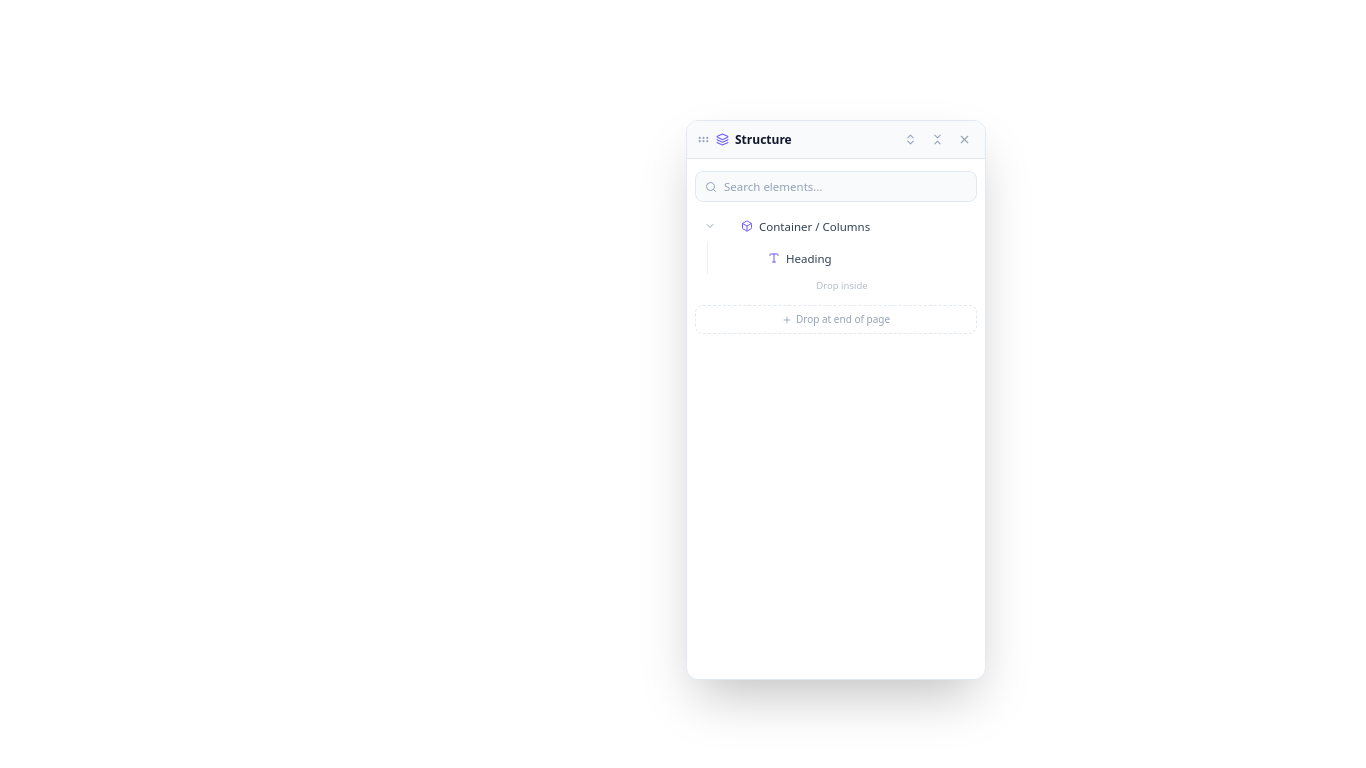
Test: Structure panel › collapse all hides nested widgets, expand all shows them
The width and height of the screenshot is (1366, 768).
Step 1. Click the button named "Collapse all" → (938, 140), box x1=927 y1=129 x2=948 y2=150
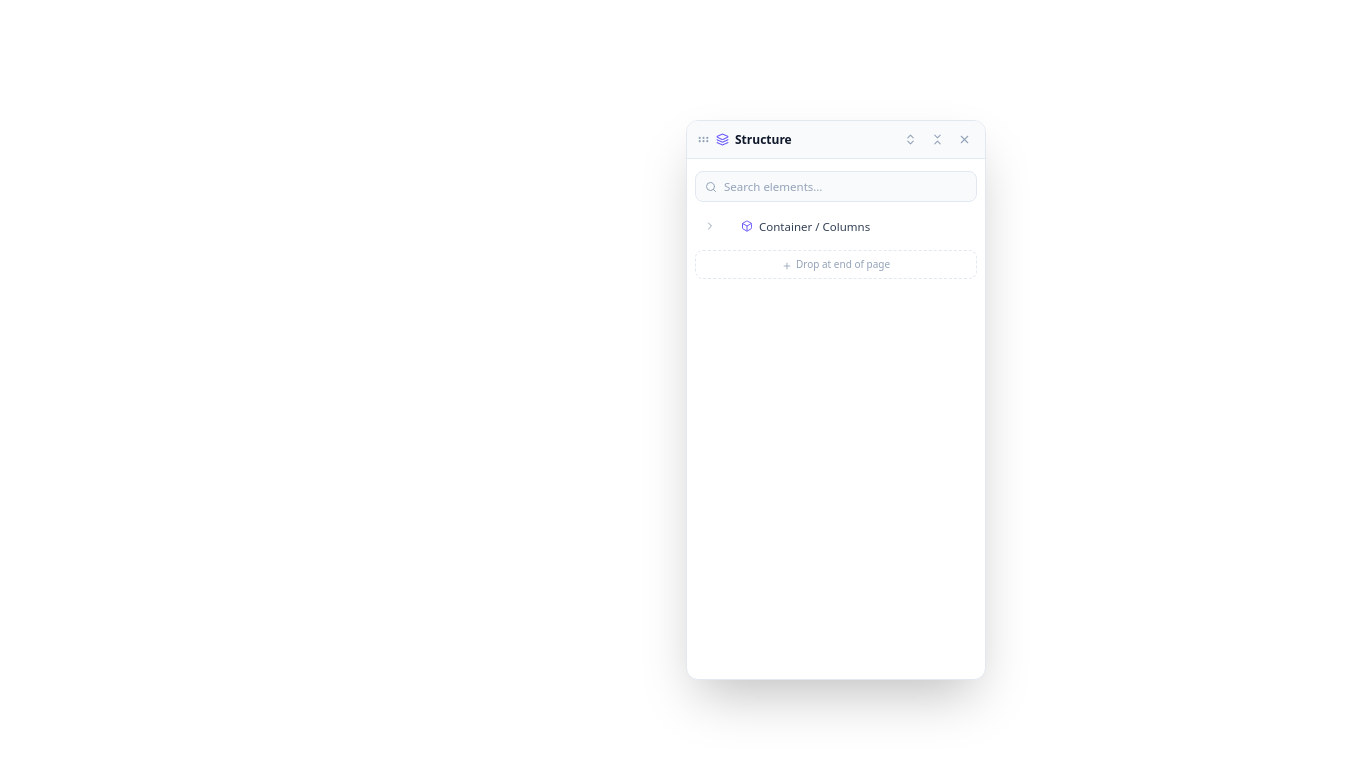
expect the text "Heading" is gone: met
Step 2. Click the button named "Expand all" → (910, 140), box x1=900 y1=129 x2=921 y2=150
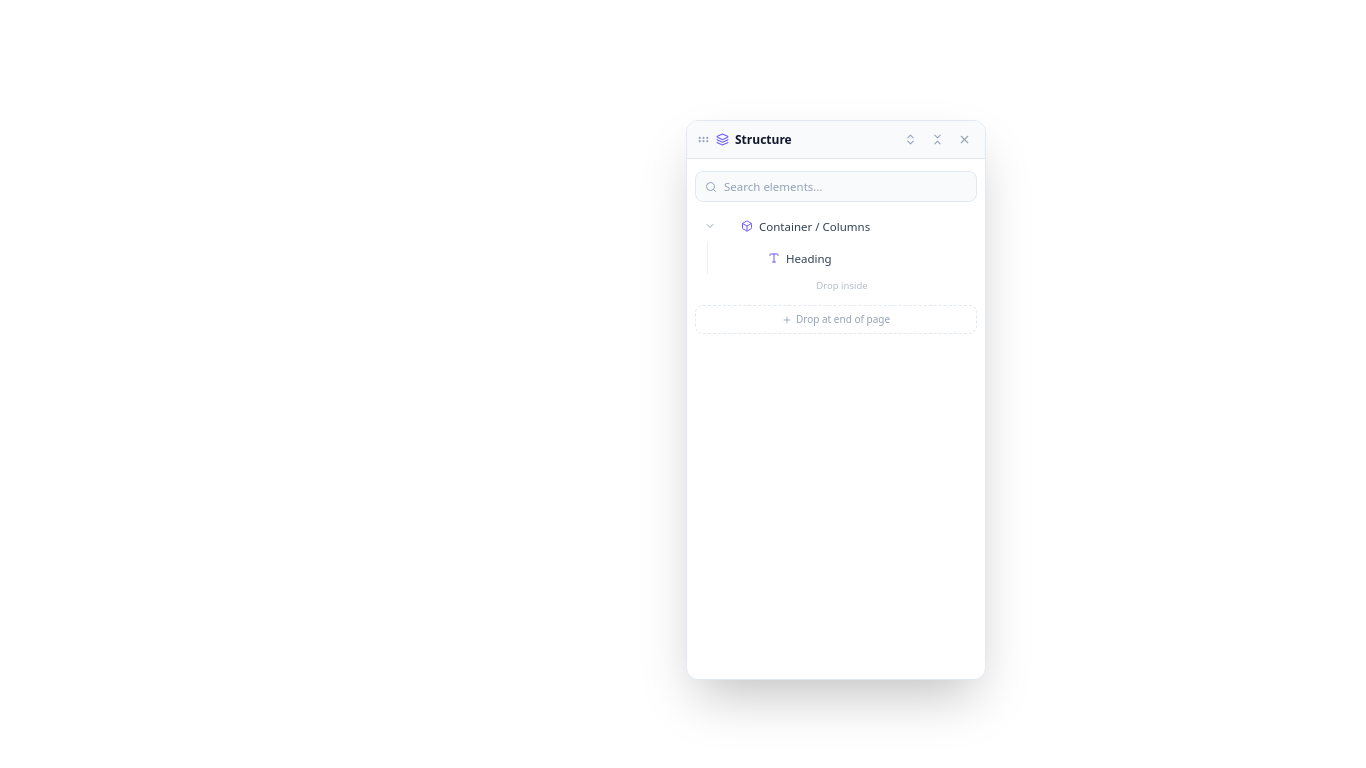
expect the text "Heading" is shown: met, box x1=786 y1=251 x2=832 y2=266
